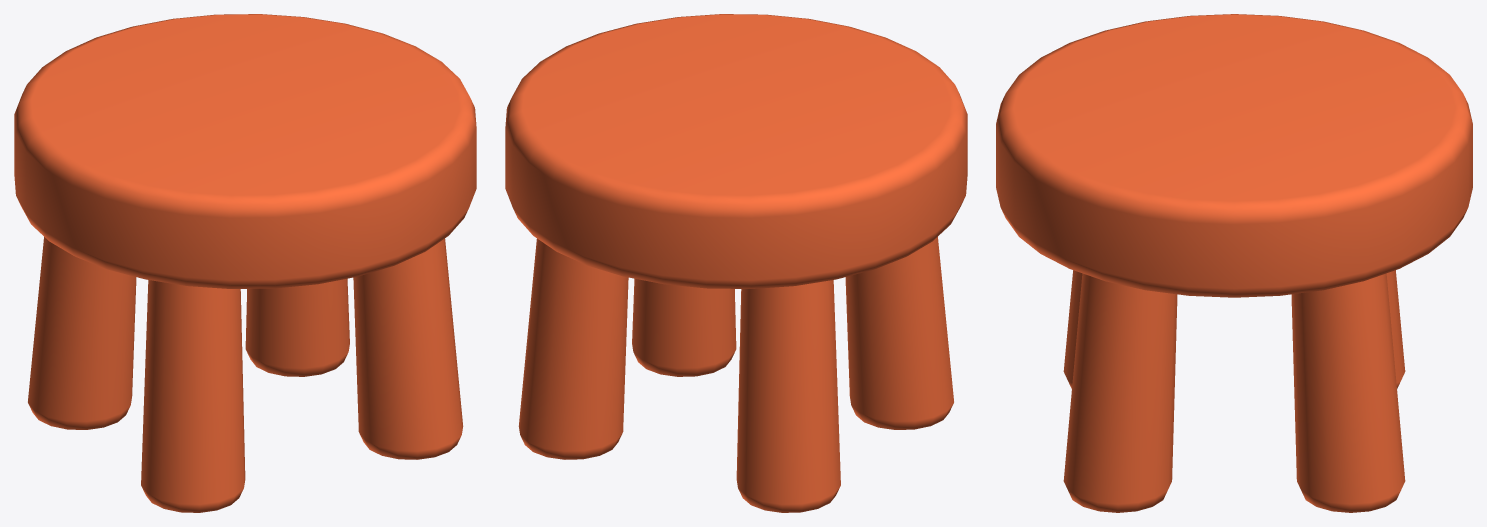
File: Store_16_Chair_1.glb
The picture shows the model from 3 angles, left to right: view 1: azimuth 30°, elevation 25°; view 2: azimuth 150°, elevation 25°; view 3: azimuth 270°, elevation 25°; orthographic projection. The views are drawn at different scales.
Parts seen in each view (by area): view 1: Store_16_Chair_1; view 2: Store_16_Chair_1; view 3: Store_16_Chair_1.
Part boxes in pixels (bbox=[...]): Store_16_Chair_1: bbox=[14, 14, 476, 512]; Store_16_Chair_1: bbox=[505, 14, 967, 512]; Store_16_Chair_1: bbox=[996, 14, 1472, 512].
Size of the model in its own units: 0.5909 by 0.4562 by 0.5908.
Materials: 1 (1 with a texture image).
